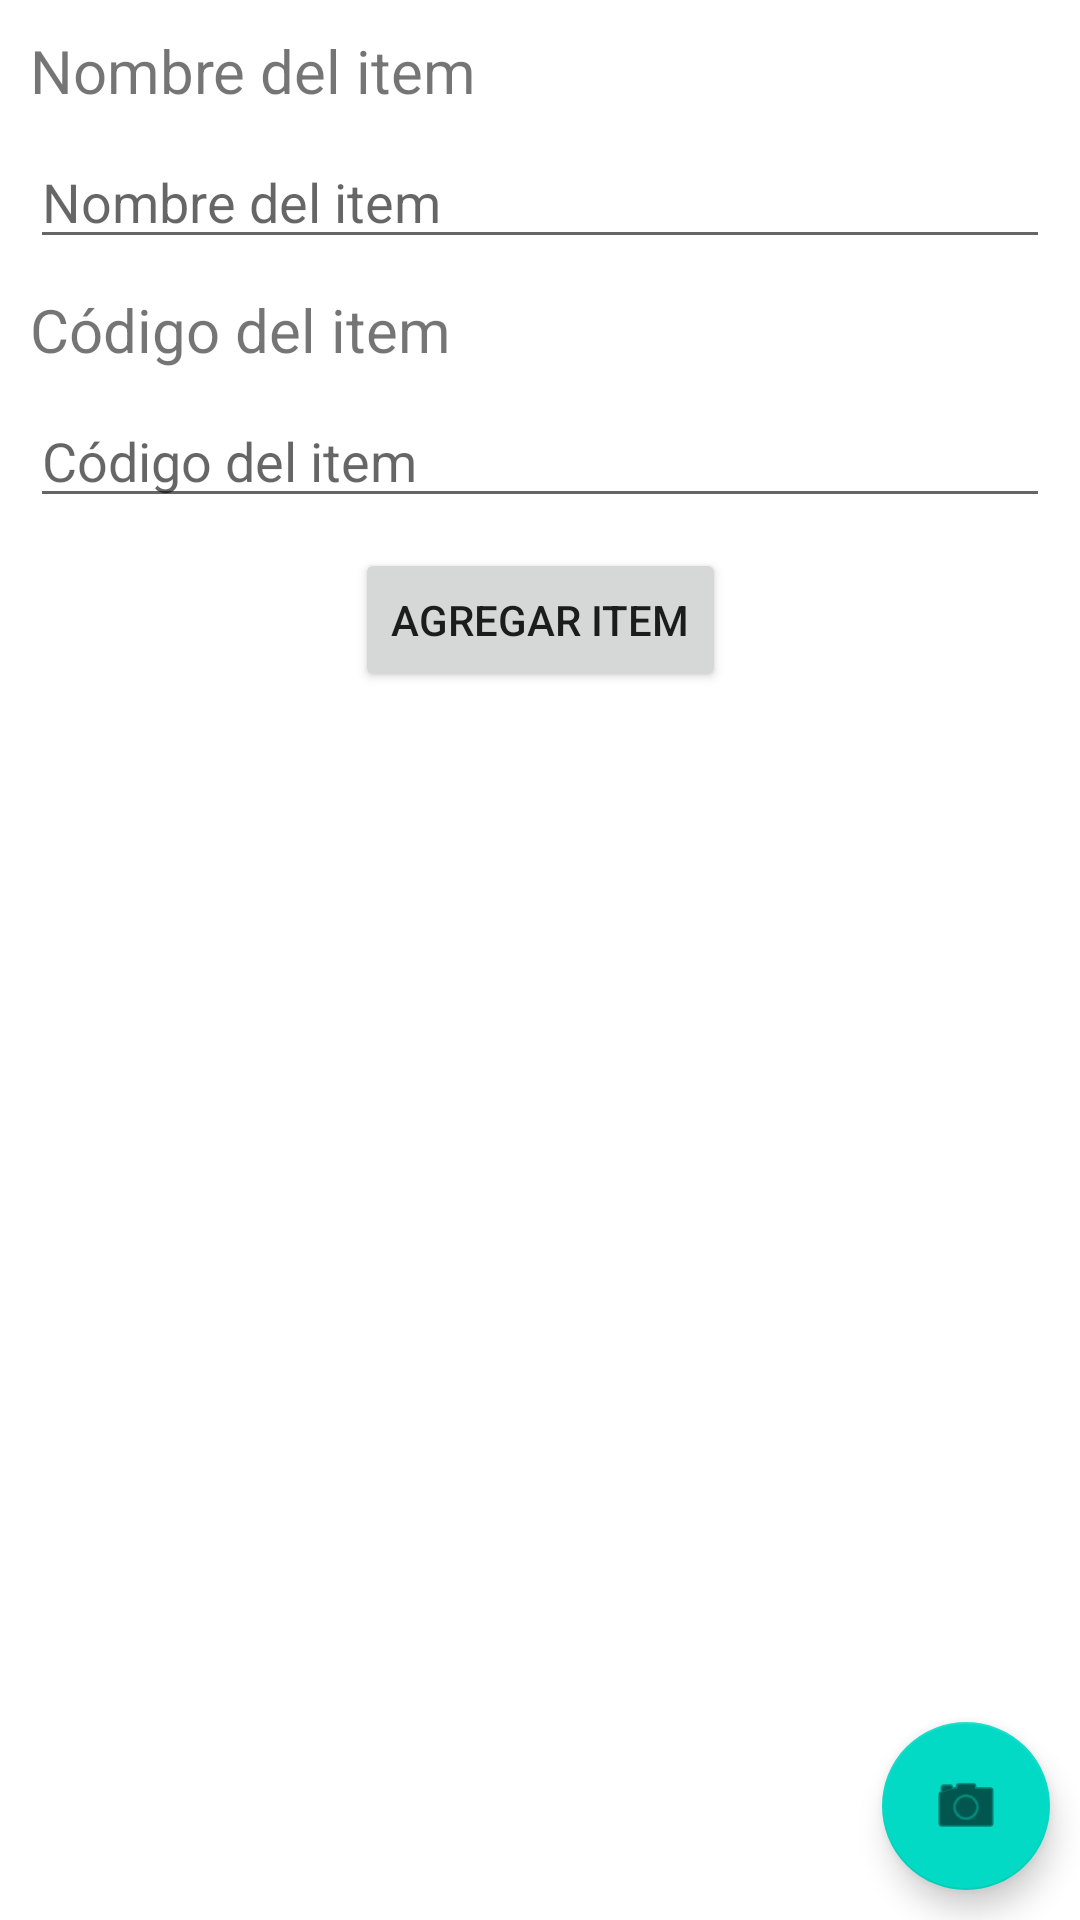

Icons on this 1080px×1920px Android screen, each with the point to tap as (x,y):
camera: (966,1806)
